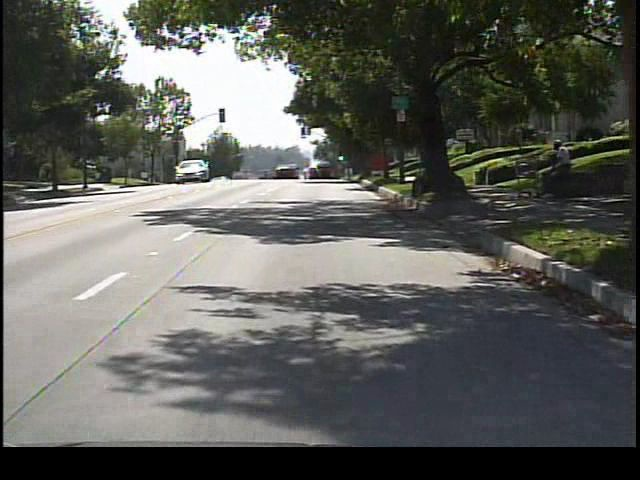person: (543, 137, 575, 206)
